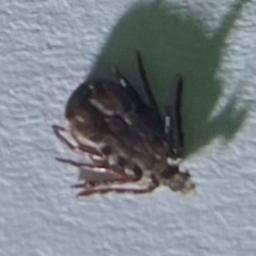Rhipicephalus sanguineus: (53, 49, 192, 200)
